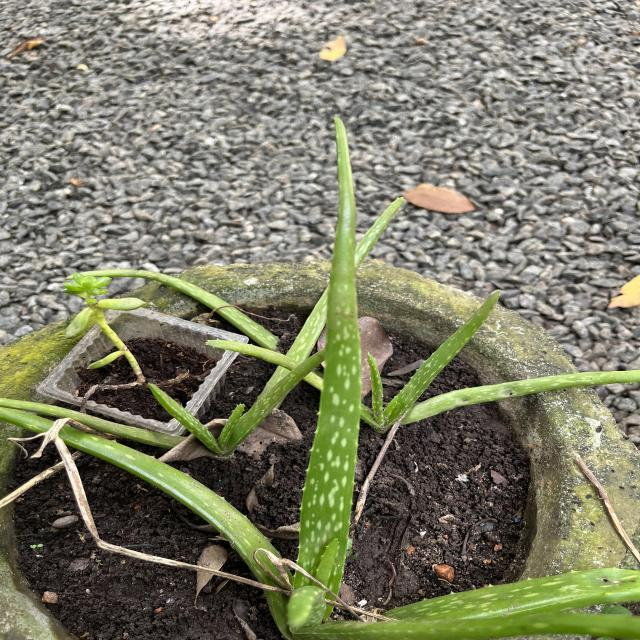Aloe vera: (295, 125, 368, 598)
